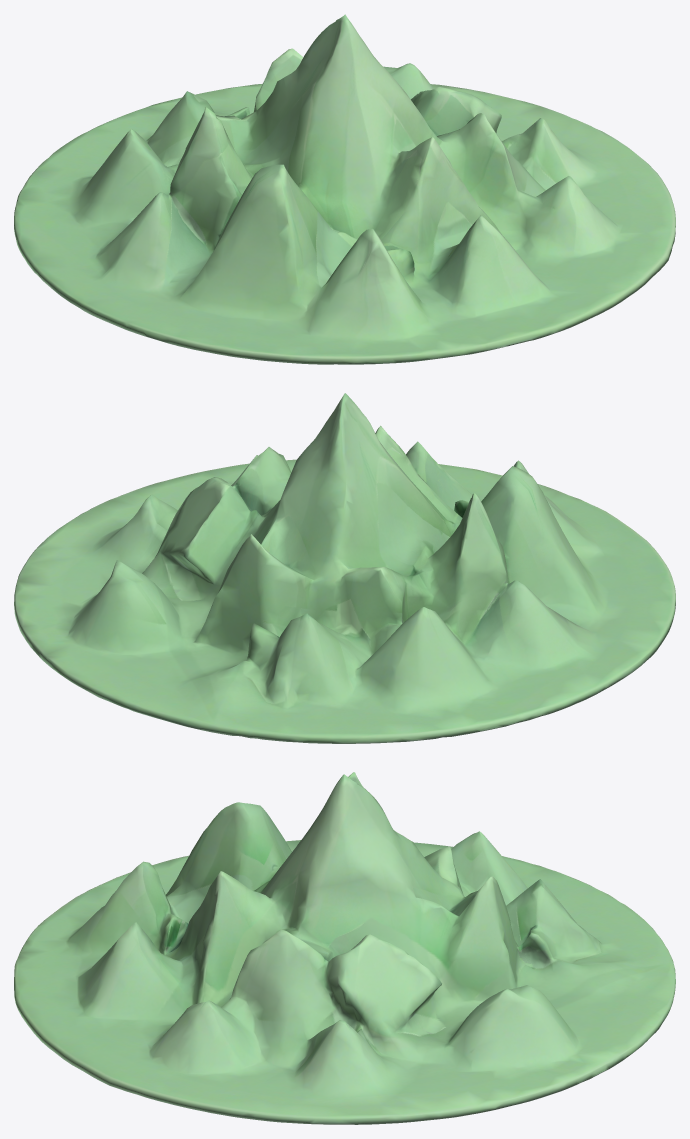
Rendered from asdf.fbx.
3 renders of one model, top to bottom at view 1: azimuth 30°, elevation 25°; view 2: azimuth 150°, elevation 25°; view 3: azimuth 270°, elevation 25°, orthographic.
Parts seen in each view (by area): view 1: input; view 2: input; view 3: input.
Part boxes in pixels (x1,y1,x2,y2): input: [14, 14, 675, 364]; input: [14, 393, 675, 743]; input: [14, 772, 675, 1124].
Bounding box in the file's own units: 199 × 70.53 × 200.
Materials: 1 (1 with a texture image).
